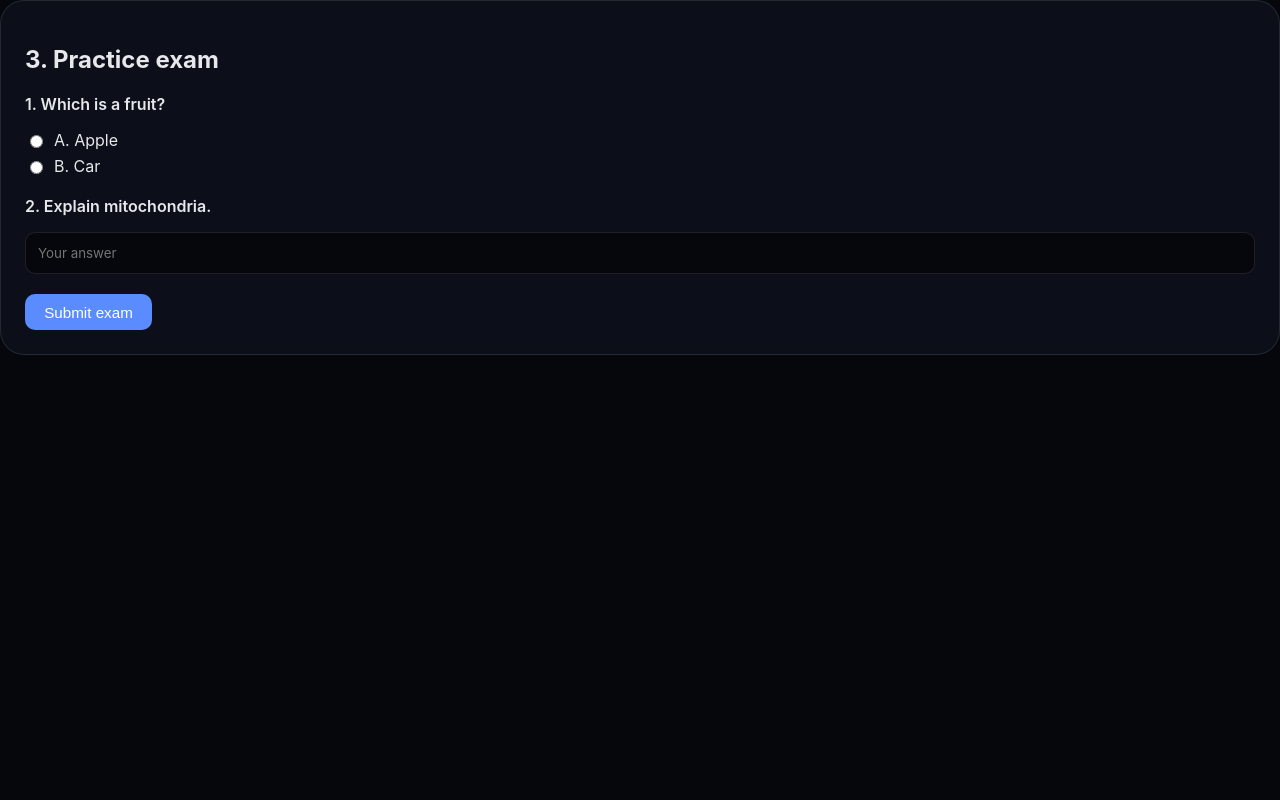
Test case: ExamPanel › records answers, submits for grading and feeds each result into spaced repetition
The image size is (1280, 800).
Click the radio button labelled "A. Apple" at point(36, 141), box [30,135,43,148]
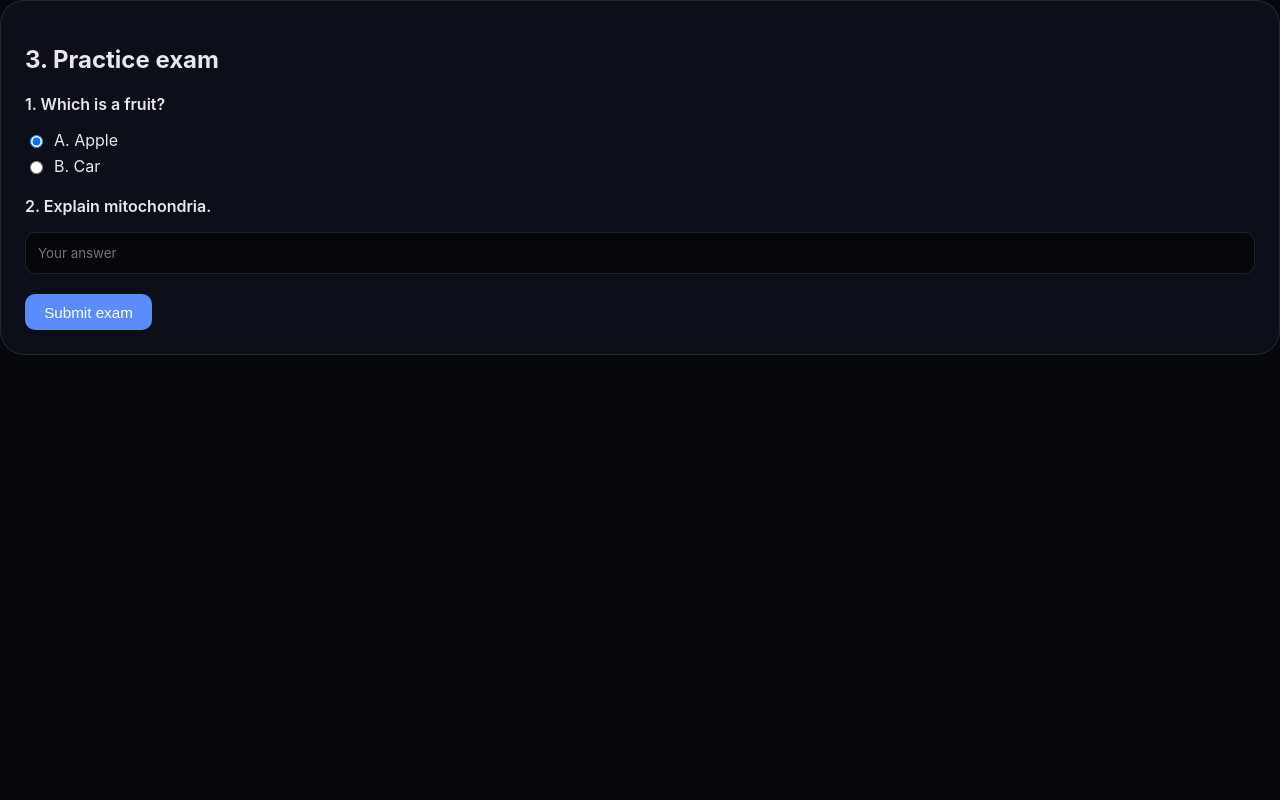
Type "energy" into the field with placeholder "Your answer" at point(640, 253), box [25,232,1255,274]
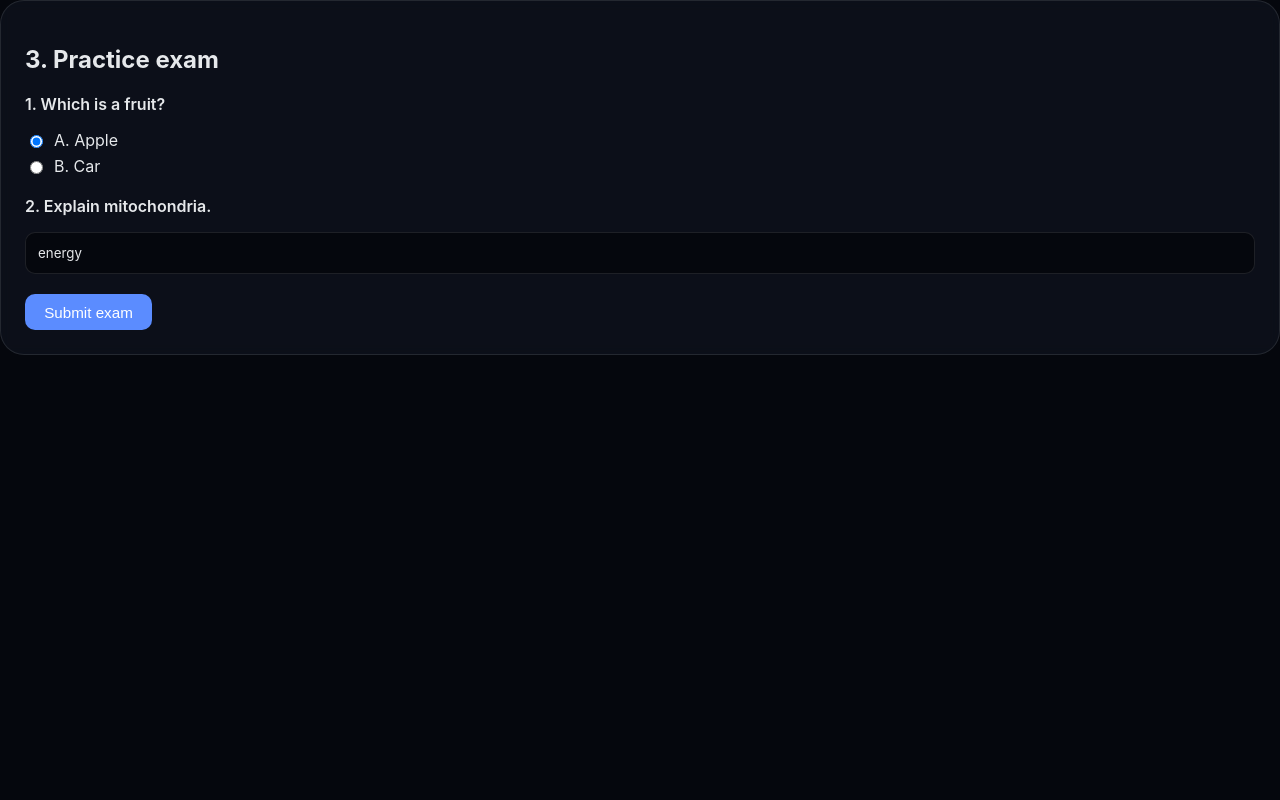
Click the button "Submit exam" at point(88, 312), box [25,294,152,330]
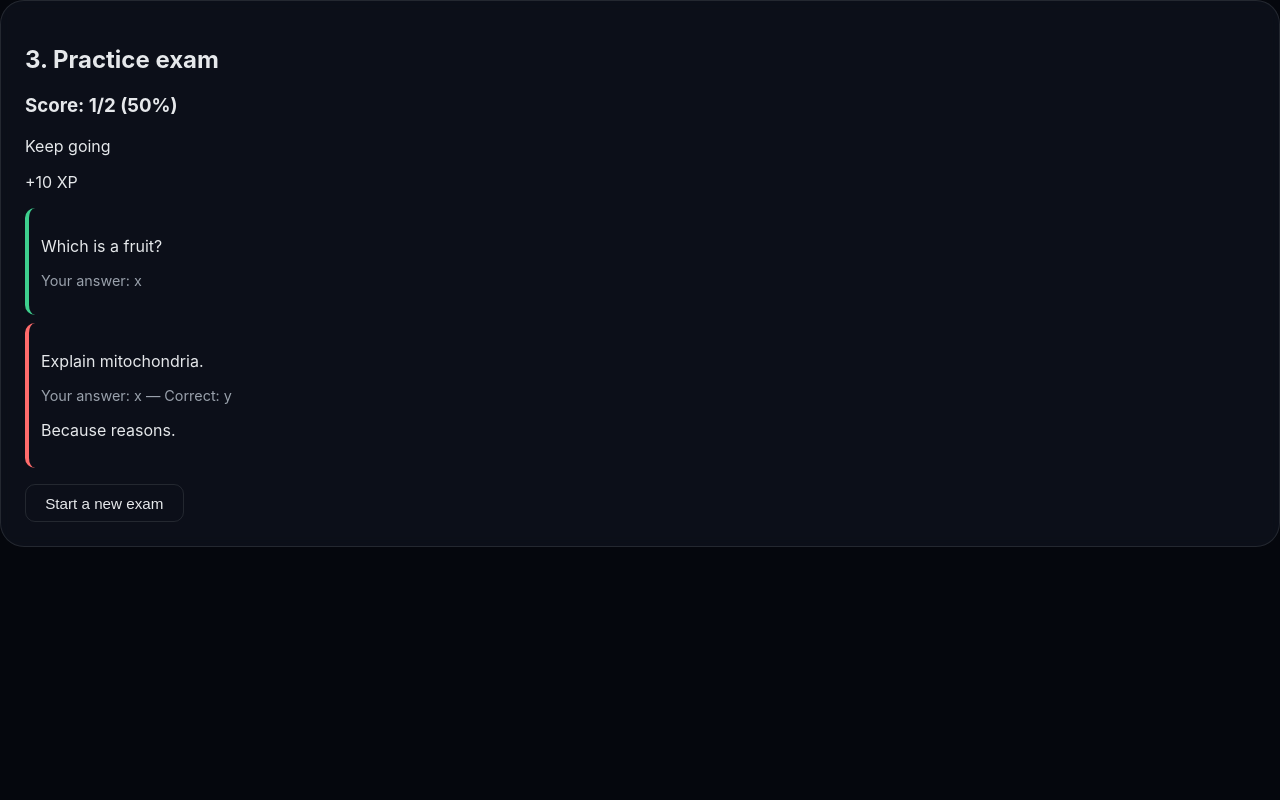
Expected: the element with test id "grading-report" is shown, [25,94,1255,522]
Expected: the heading "Score: 1/2 (50%)" is shown, [25,94,178,117]
Expected: the text "Because reasons." is shown, [41,420,176,440]
